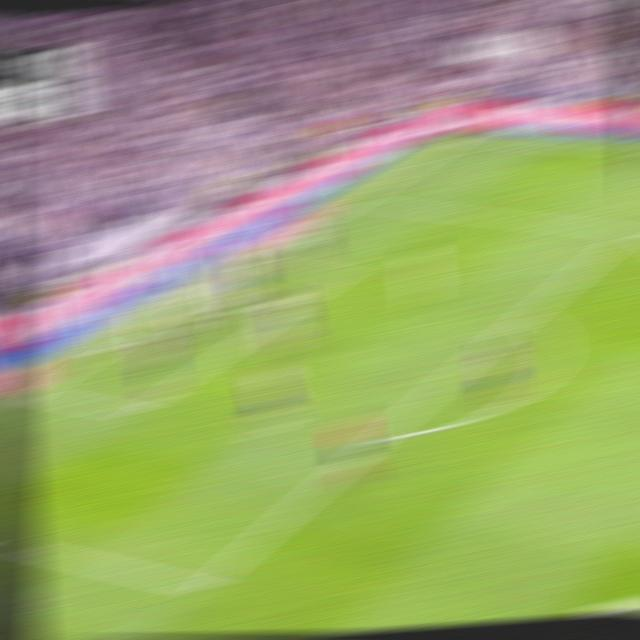bigarea_bottom_inner: (185, 571, 221, 603)
bigarea_top_inner: (616, 222, 640, 239)
bigarea_top_outter: (346, 193, 374, 207)
bottom_arc_area_intersection: (366, 425, 396, 447)
corner: (449, 134, 477, 143)
smallarea_bottom_inner: (120, 402, 150, 423)
smallarea_top_inner: (329, 267, 357, 282)
smallarea_top_outter: (245, 257, 272, 266)
top_arc_area_intersection: (513, 305, 542, 323)
